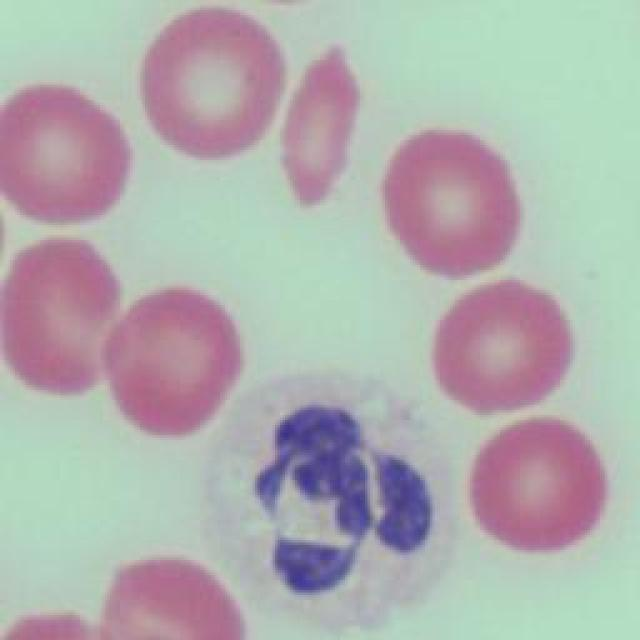RBC: (99, 286, 244, 439), (140, 8, 285, 160), (381, 128, 521, 278), (0, 237, 122, 394), (433, 282, 575, 416), (468, 420, 612, 552), (0, 83, 130, 225), (281, 44, 361, 206), (97, 555, 245, 640), (4, 610, 104, 640)
WBC: (198, 368, 458, 632)
